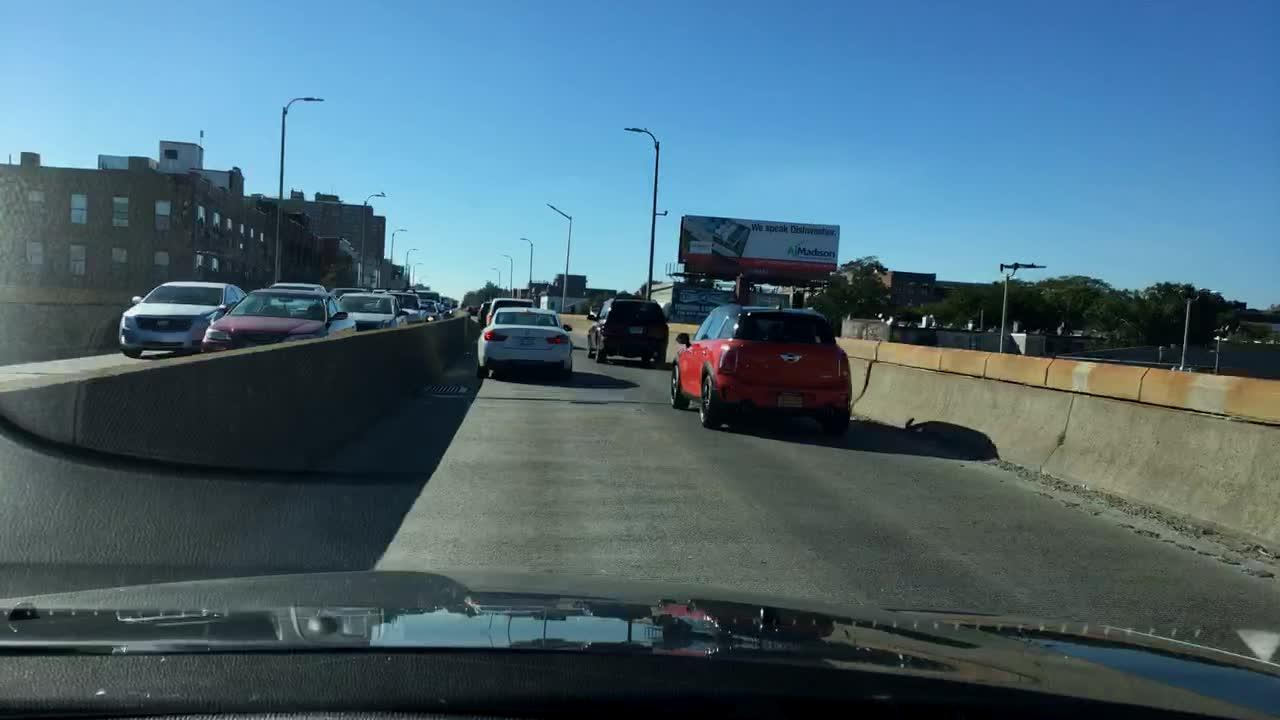mini: (776, 351, 806, 367)
